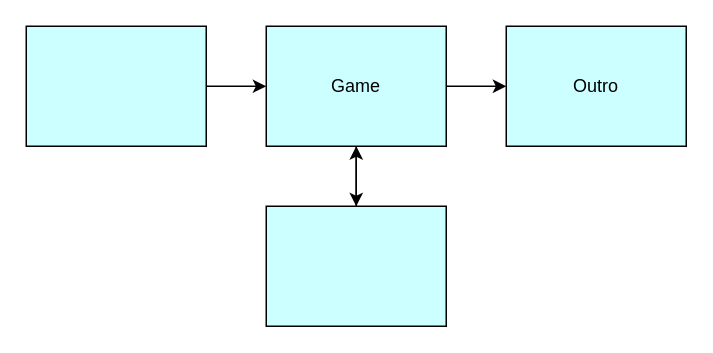
Image size: 713x353. Some labels were removed from this diagram. Each missing label, with the centre of its shape:
"Intro" belongs at point (115, 85).
"Pause" belongs at point (355, 265).
